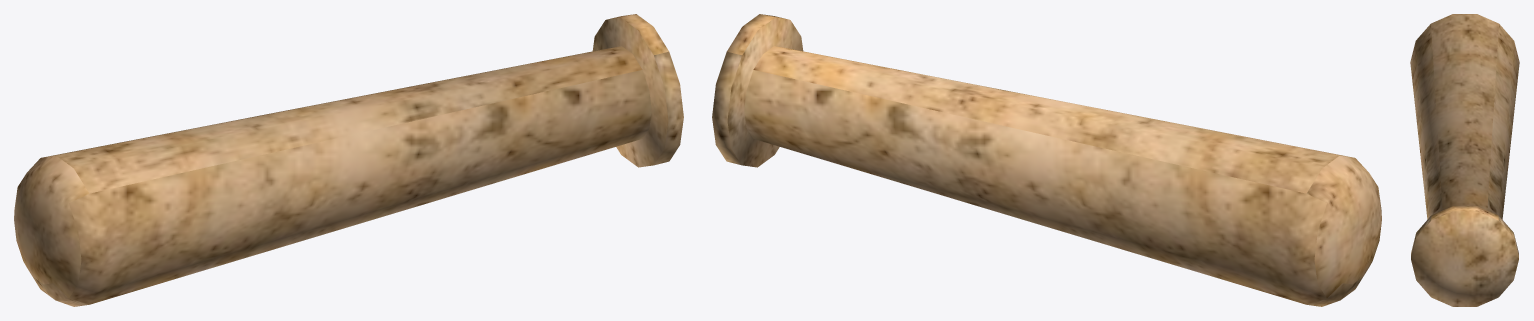
The model's file is pestle.glb.
3 renders of one model, left to right at view 1: azimuth 30°, elevation 25°; view 2: azimuth 150°, elevation 25°; view 3: azimuth 270°, elevation 25°, orthographic. The views are drawn at different scales.
Parts seen in each view (by area): view 1: Pestle; view 2: Pestle; view 3: Pestle.
Boxes of the visible parts, bbox=[...] form: Pestle: bbox=[14, 14, 683, 306]; Pestle: bbox=[712, 14, 1381, 306]; Pestle: bbox=[1410, 14, 1519, 306].
Bounding box in the file's own units: 0.2288 × 0.049 × 0.0502.
1 material, 1 textured.
